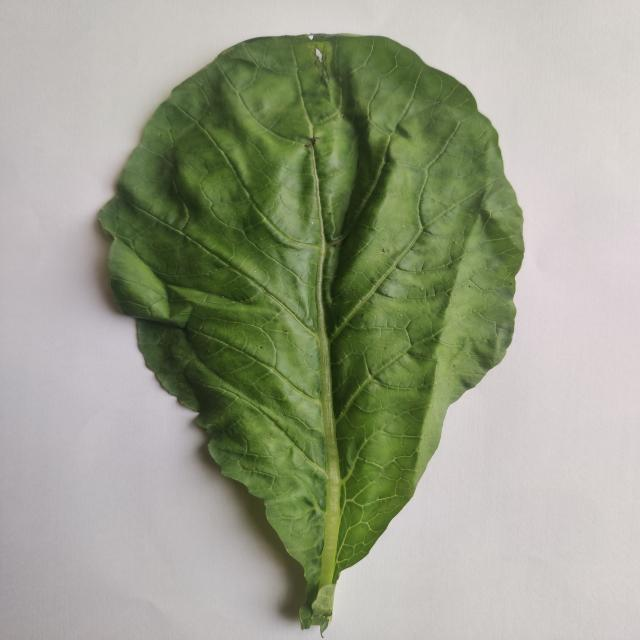raddish: (100, 35, 523, 630)
